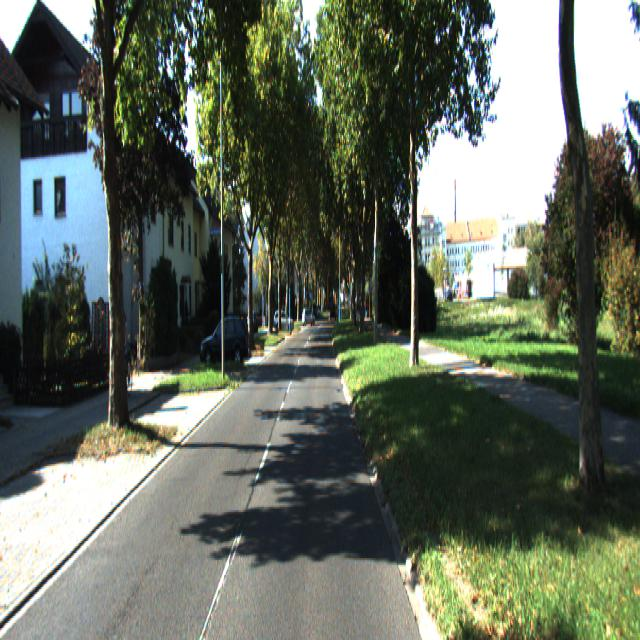Car: (199, 313, 249, 370)
